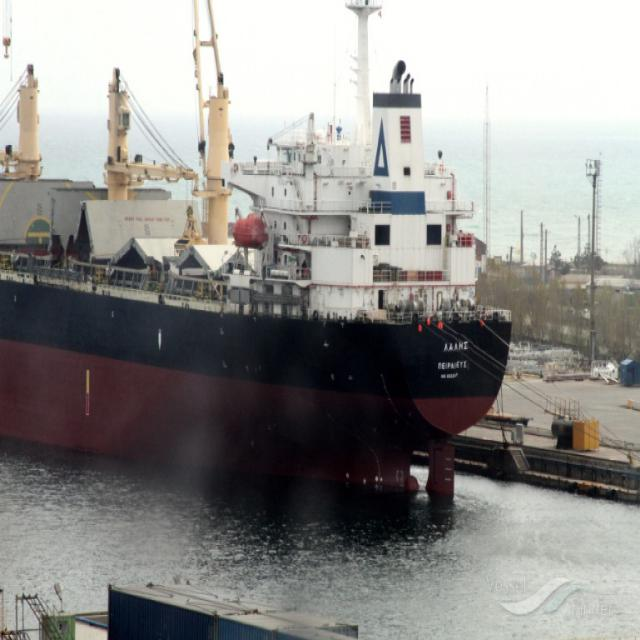OCR: (430, 334, 474, 388)
